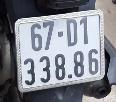1: (78, 16, 91, 45)
3: (23, 57, 37, 85), (39, 55, 52, 83)
6: (29, 22, 43, 51), (87, 48, 101, 76)
7: (42, 19, 55, 52)
8: (72, 50, 86, 77), (54, 53, 67, 80)
D: (64, 18, 78, 47)
